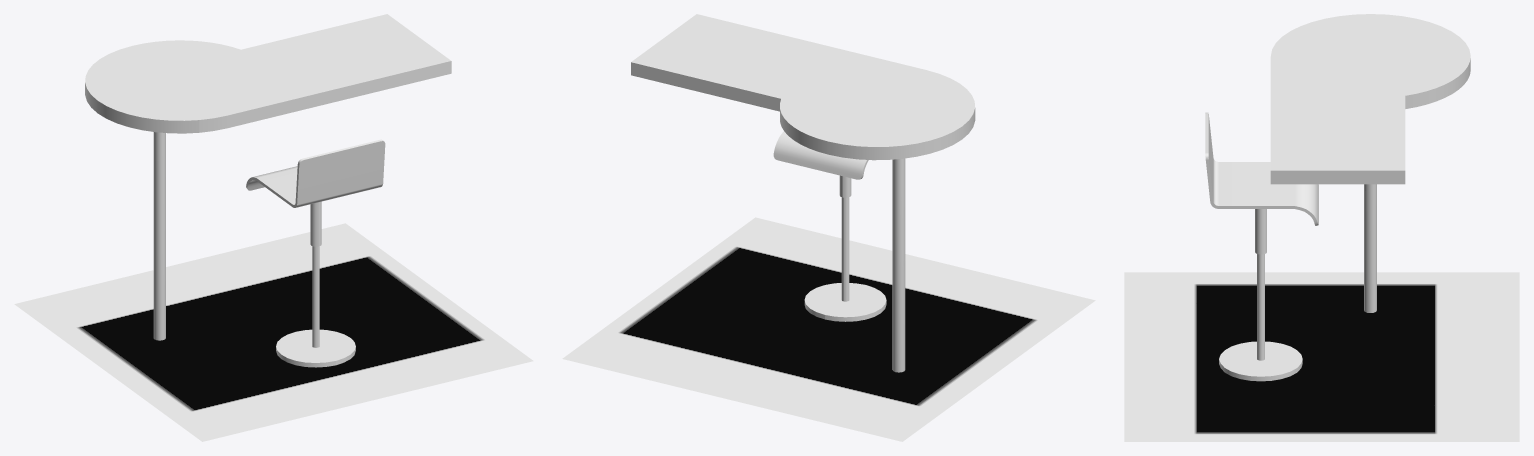
File: bar001.dae
3 renders of one model, left to right at view 1: azimuth 30°, elevation 25°; view 2: azimuth 150°, elevation 25°; view 3: azimuth 270°, elevation 25°, orthographic. The views are drawn at different scales.
Visible parts, largest first — view 1: sd_bar001, bar001_counter_part01, bar001_chair_part03, bar001_chair_part01; view 2: sd_bar001, bar001_counter_part01, bar001_chair_part03, bar001_chair_part01; view 3: sd_bar001, bar001_counter_part01, bar001_chair_part03, bar001_chair_part01.
Part boxes in pixels (x1,y1,x2,y2): sd_bar001: (14, 223, 533, 441); bar001_counter_part01: (85, 14, 451, 133); bar001_chair_part03: (153, 132, 355, 367); bar001_chair_part01: (246, 139, 385, 207); sd_bar001: (562, 217, 1095, 441); bar001_counter_part01: (631, 14, 975, 160); bar001_chair_part03: (804, 158, 905, 372); bar001_chair_part01: (773, 131, 868, 179); sd_bar001: (1124, 272, 1519, 441); bar001_counter_part01: (1270, 14, 1470, 184); bar001_chair_part03: (1219, 184, 1376, 381); bar001_chair_part01: (1205, 112, 1318, 225).
Size of the model in its own units: 1.16 by 0.8442 by 1.14.
Materials: 3 (3 with a texture image).
